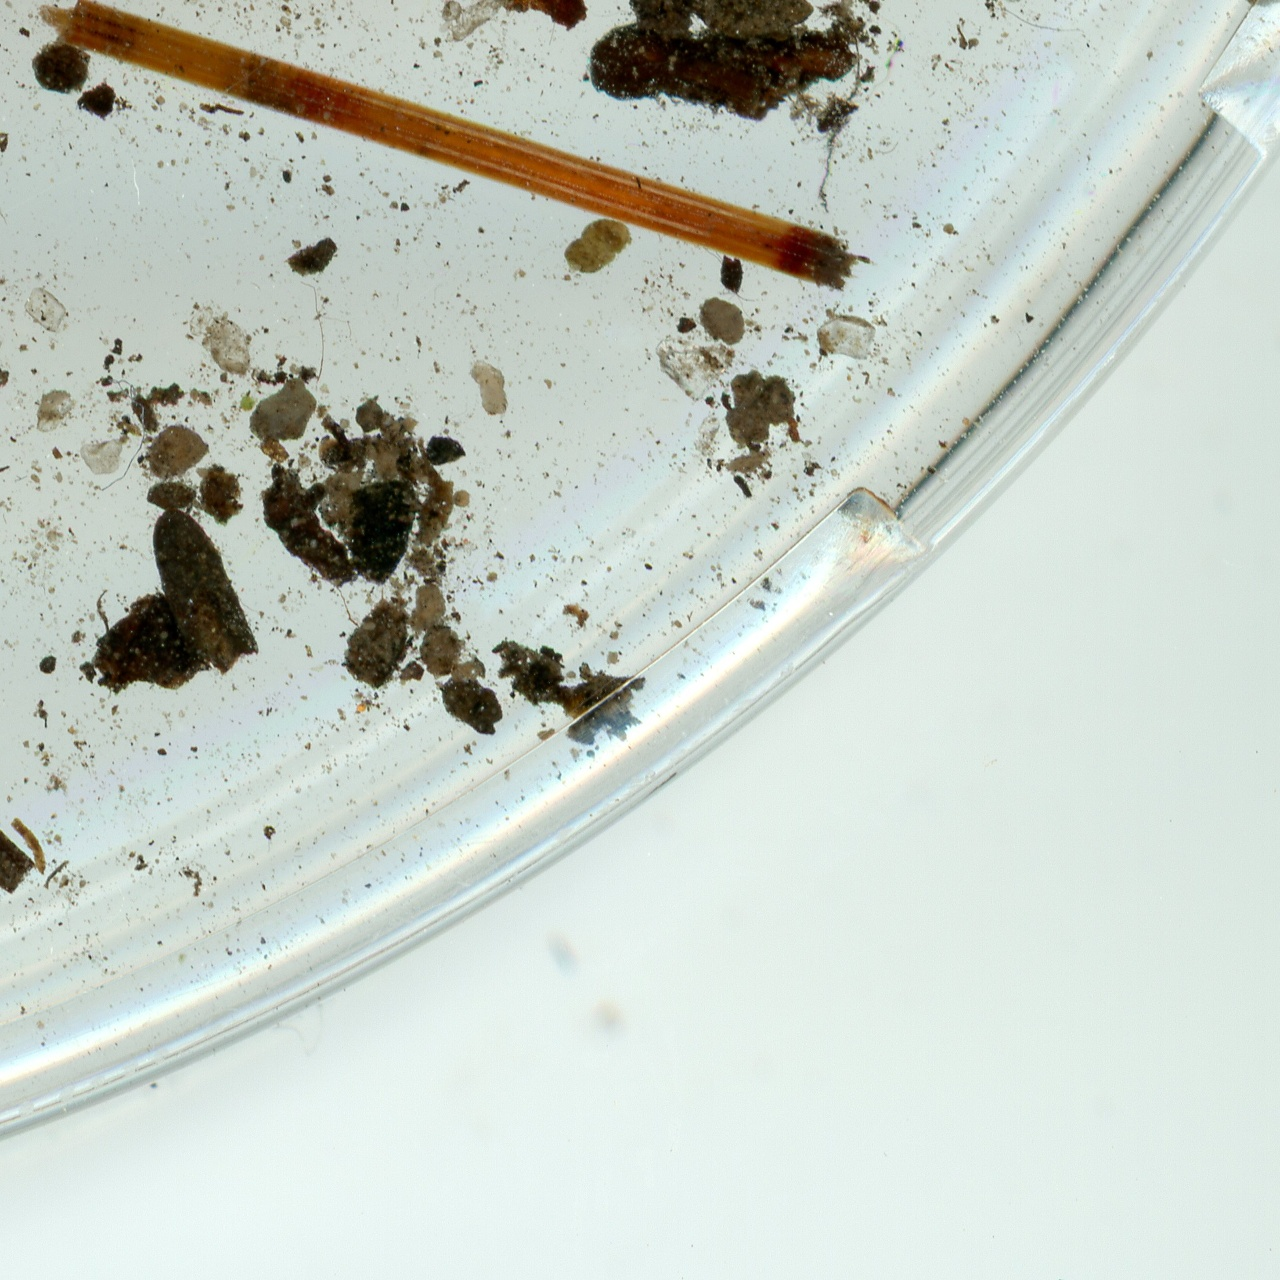arthropod: (1246, 0, 1280, 7)
